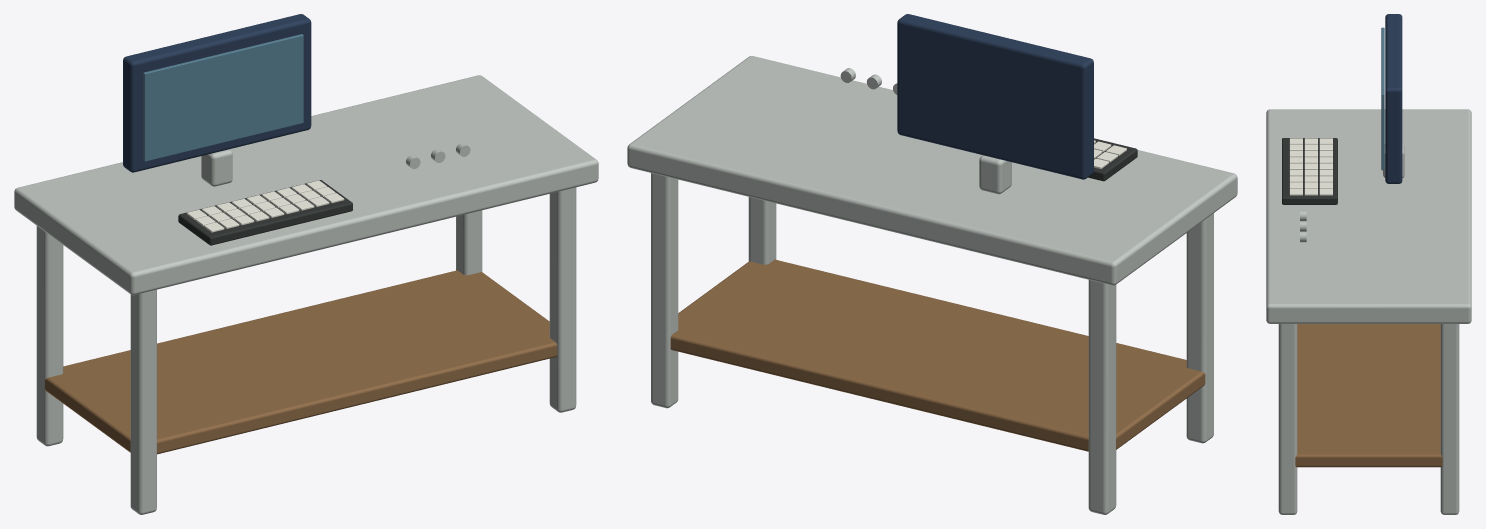
File: planetarium-and-optical-observatory-projection-control-7000b204__31831.glb
3 views of the same model, side by side, from view 1: azimuth 30°, elevation 25°; view 2: azimuth 150°, elevation 25°; view 3: azimuth 270°, elevation 25° (orthographic). The views are drawn at different scales.
Parts seen in each view (by area): view 1: projection-control-console; view 2: projection-control-console; view 3: projection-control-console.
Part boxes in pixels (x1,y1,x2,y2): projection-control-console: [14, 14, 598, 514]; projection-control-console: [627, 14, 1237, 514]; projection-control-console: [1266, 14, 1471, 514].
Size of the model in its own units: 1.5 by 1.21 by 0.66.
